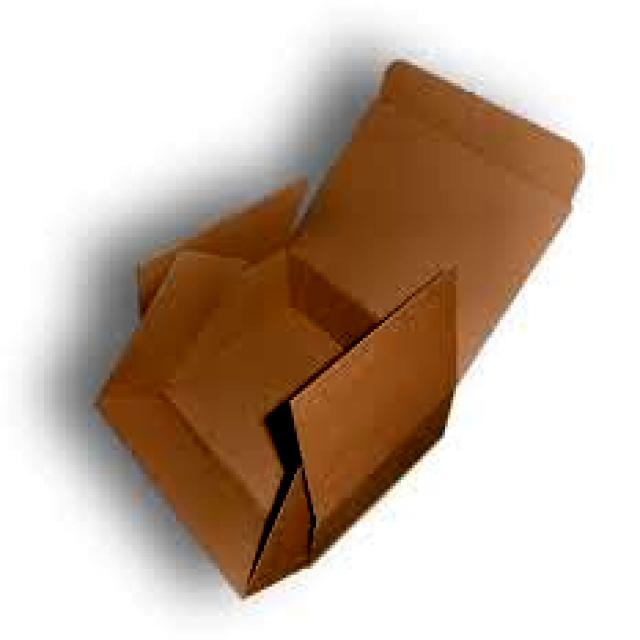Cardboard: (84, 55, 593, 600)
